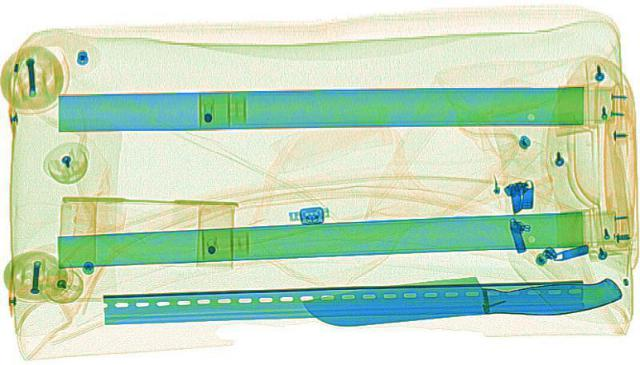Knife: (296, 269, 624, 327)
